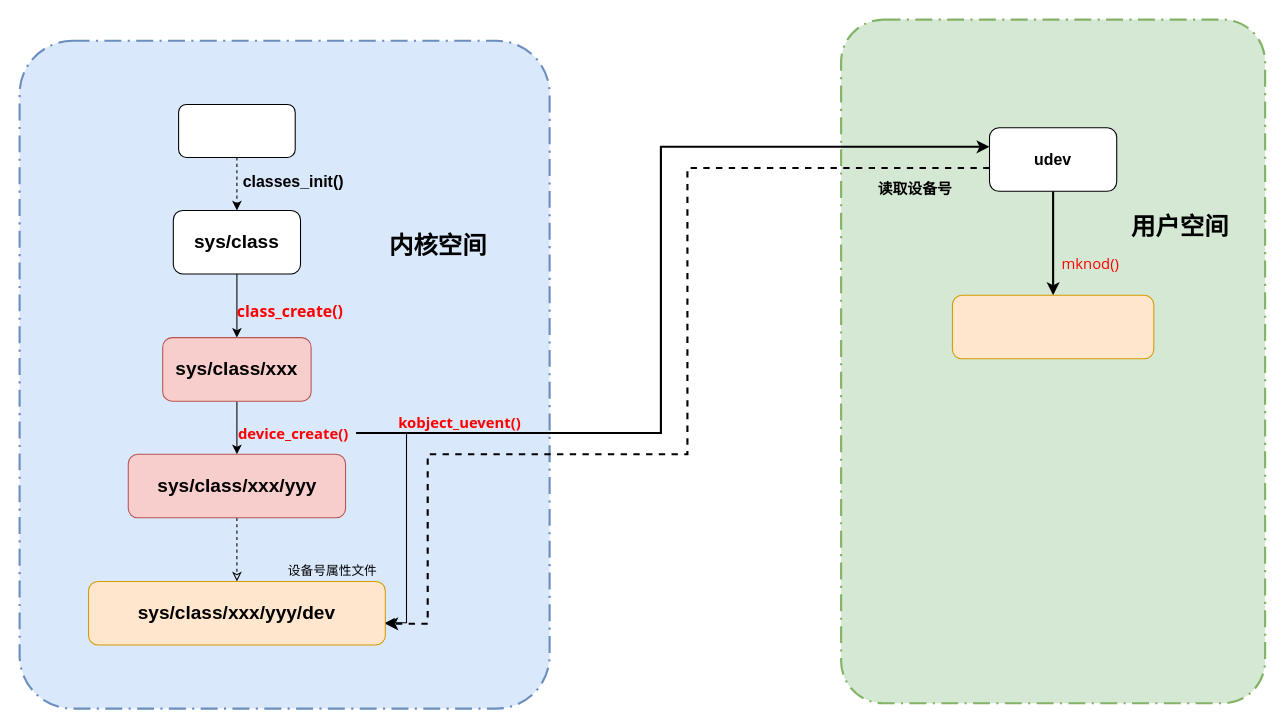
This 1284x727 diagram has some shape labels left out. The centre of each missing label's shape, as x and y in pixels:
/dev/xxx: the point at 1052,326
系统启动: the point at 236,130
